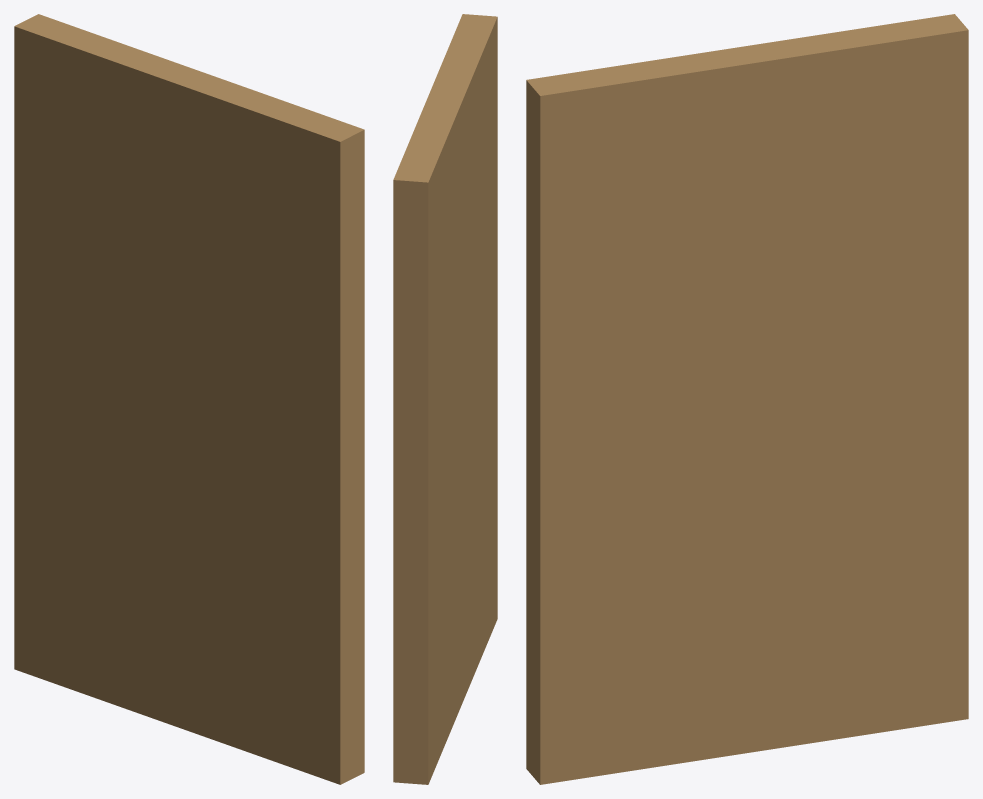
Rendered from DoorOpen.dae.
3 views of the same model, side by side, from view 1: azimuth 30°, elevation 25°; view 2: azimuth 150°, elevation 25°; view 3: azimuth 270°, elevation 25° (orthographic). The views are drawn at different scales.
Parts seen in each view (by area): view 1: DoorOpen; view 2: DoorOpen; view 3: DoorOpen.
Boxes of the visible parts, box(x1,y1,x2,y2) form: DoorOpen: box(14, 14, 364, 784); DoorOpen: box(393, 14, 497, 784); DoorOpen: box(526, 14, 968, 784).
Bounding box in the file's own units: 0.5111 × 1.16 × 2.
